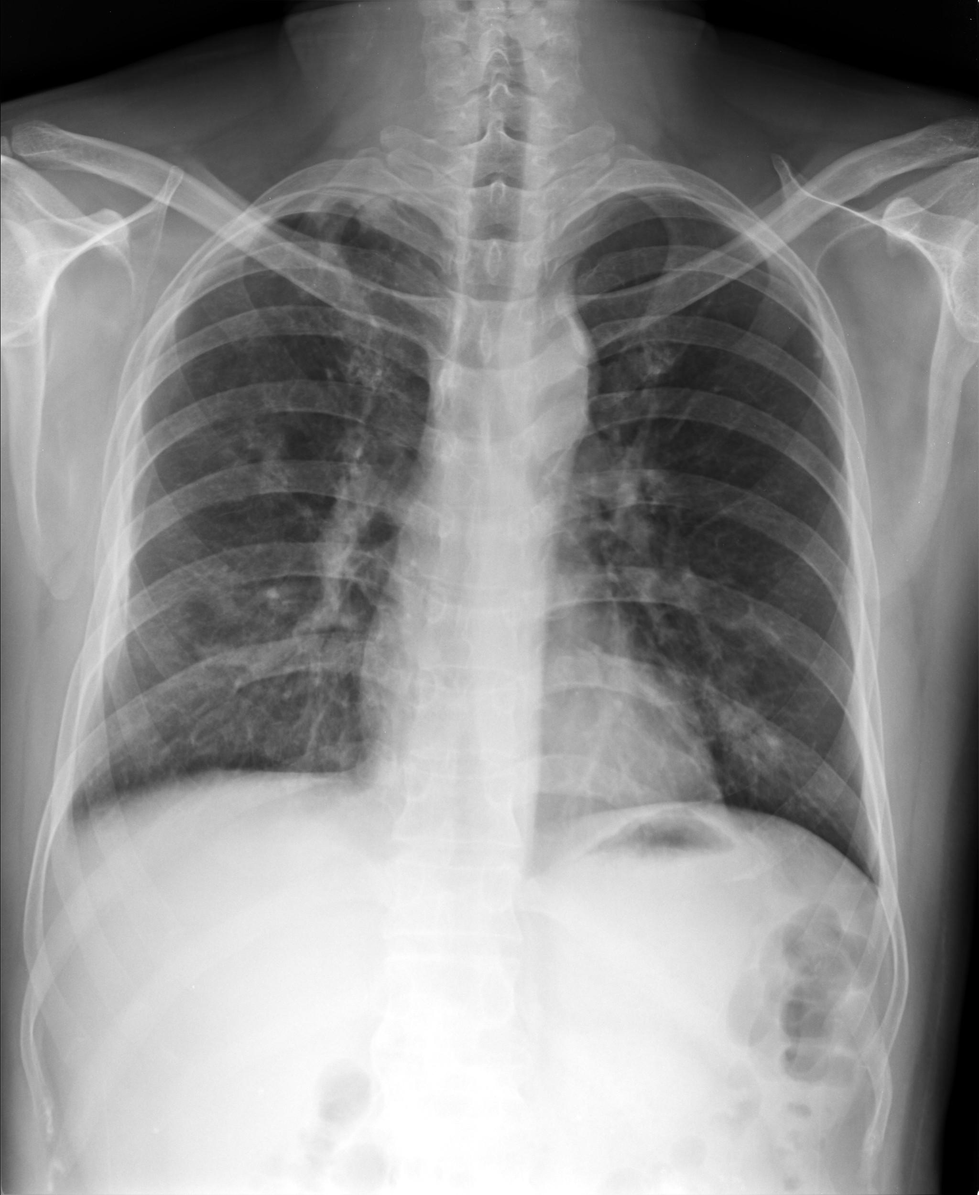Pleural thickening: (285, 187, 395, 227)
Pulmonary fibrosis: (310, 224, 367, 316)
